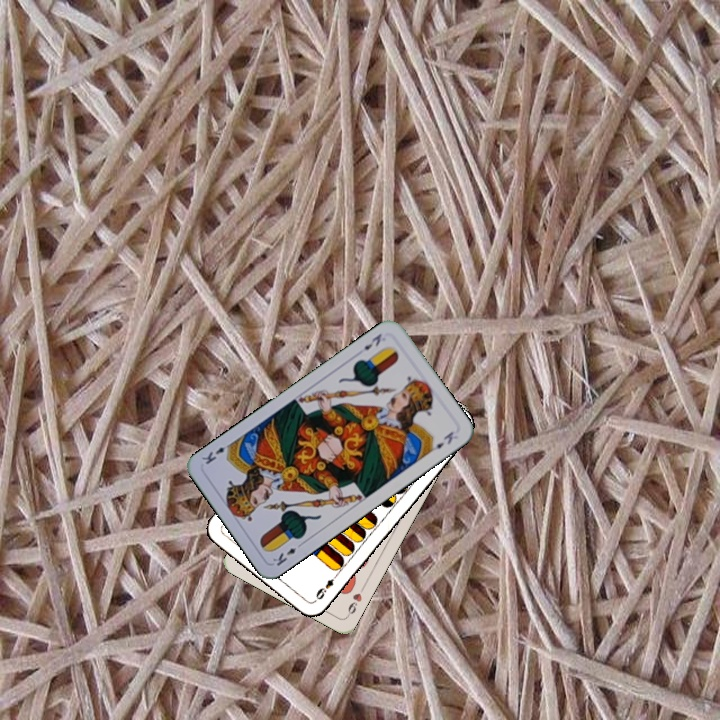E9: (311, 569, 341, 603)
EK: (268, 538, 306, 569), (359, 329, 384, 353)
H9: (343, 582, 367, 619)
